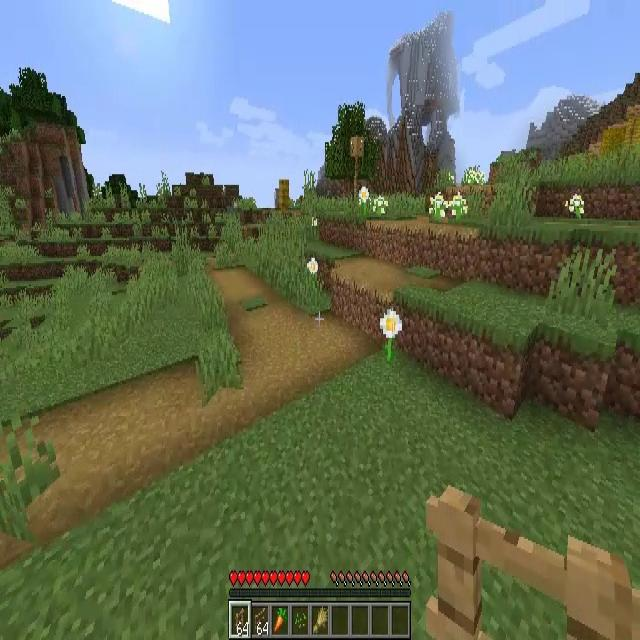flower: (379, 310, 402, 364), (429, 194, 448, 223), (451, 192, 467, 223), (568, 193, 584, 220), (465, 168, 484, 188), (372, 196, 388, 216), (359, 186, 369, 216), (306, 258, 320, 274)
